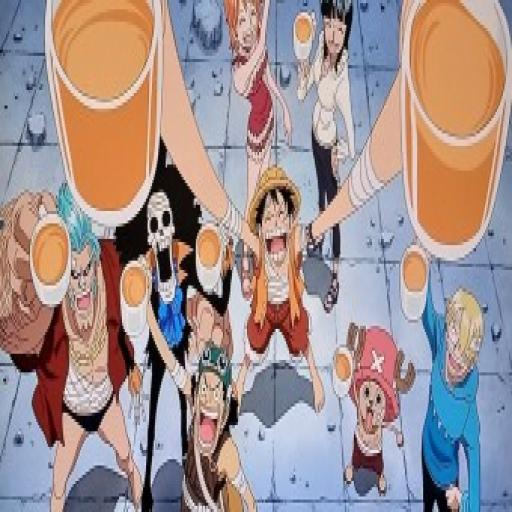Luffy: (245, 164, 303, 264)
Nami: (223, 0, 274, 68)
NicoRobin: (310, 0, 354, 87)
Usopp: (188, 335, 237, 455)
sanji: (434, 282, 494, 384)
